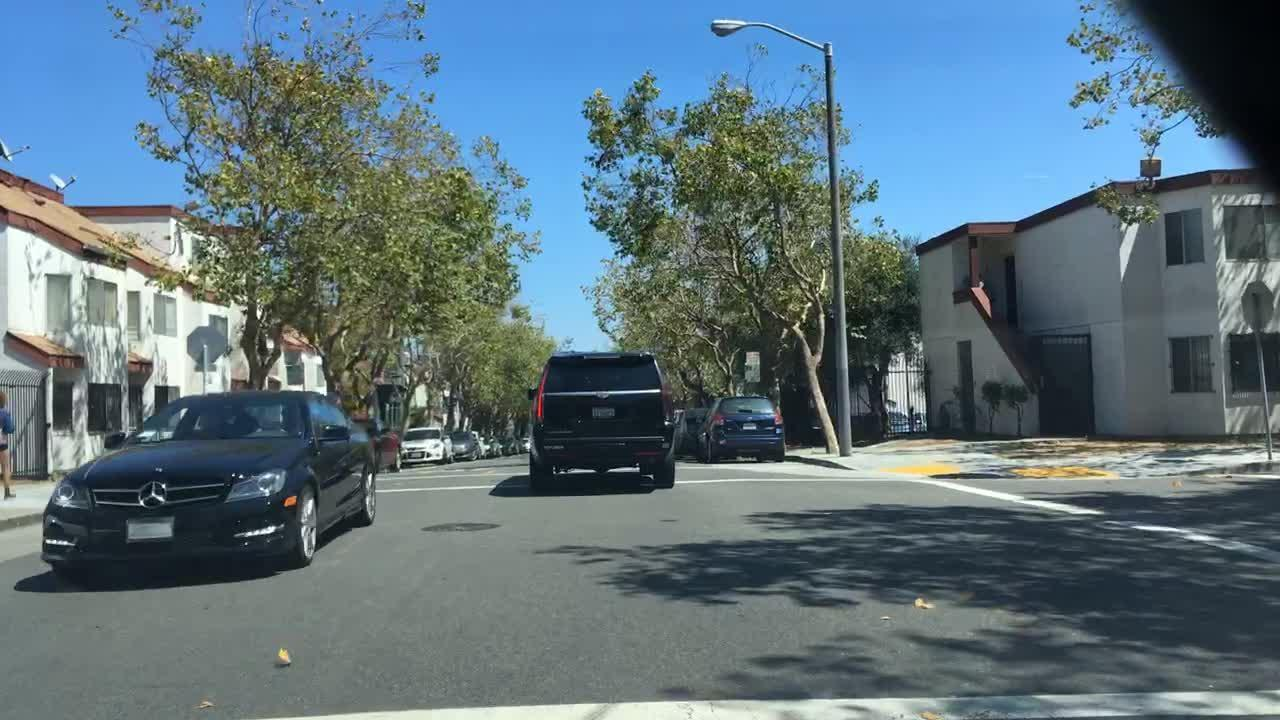Mercedes: (136, 479, 169, 513)
